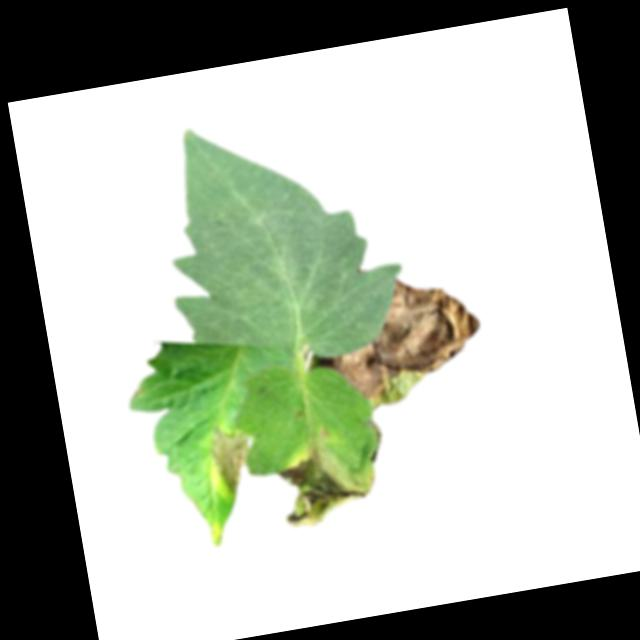Late_blight: (315, 265, 489, 407), (269, 428, 381, 530), (206, 423, 257, 497), (365, 420, 386, 467)
